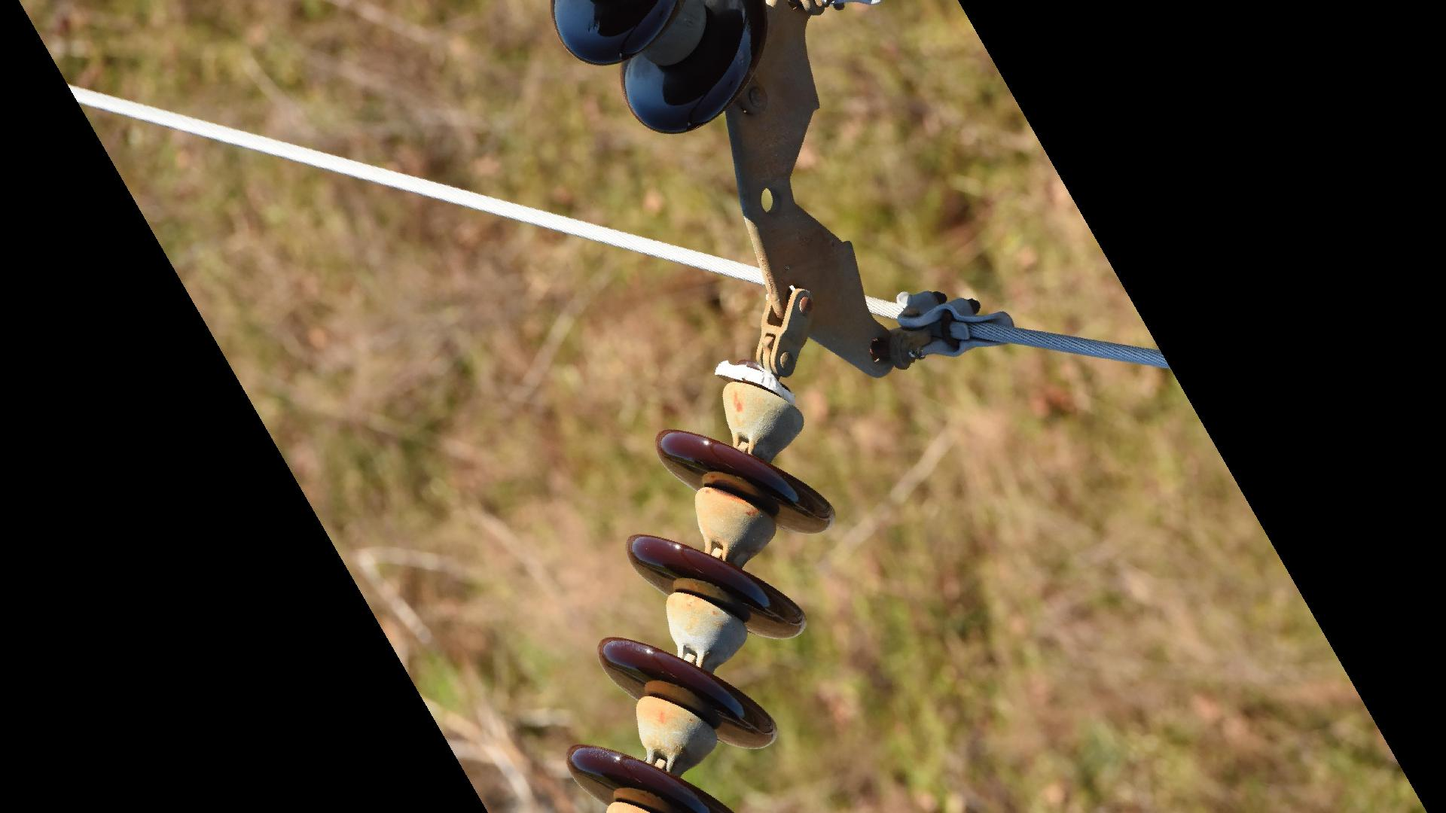insulator: (560, 354, 841, 813), (548, 1, 773, 142)
